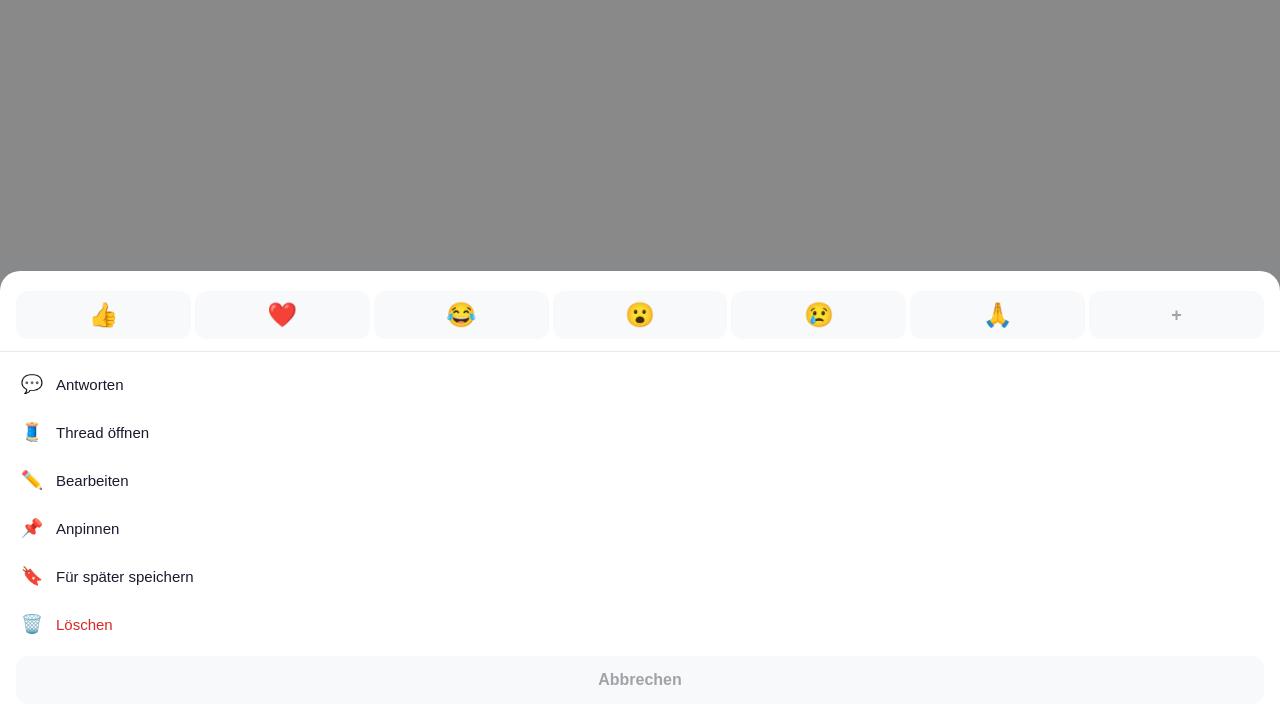
Test: MobileMessageMenu — delete confirmation › hides confirm when Abbrechen is clicked
Click the button "🗑️ Löschen" at (84, 624), box x1=8 y1=600 x2=1272 y2=648
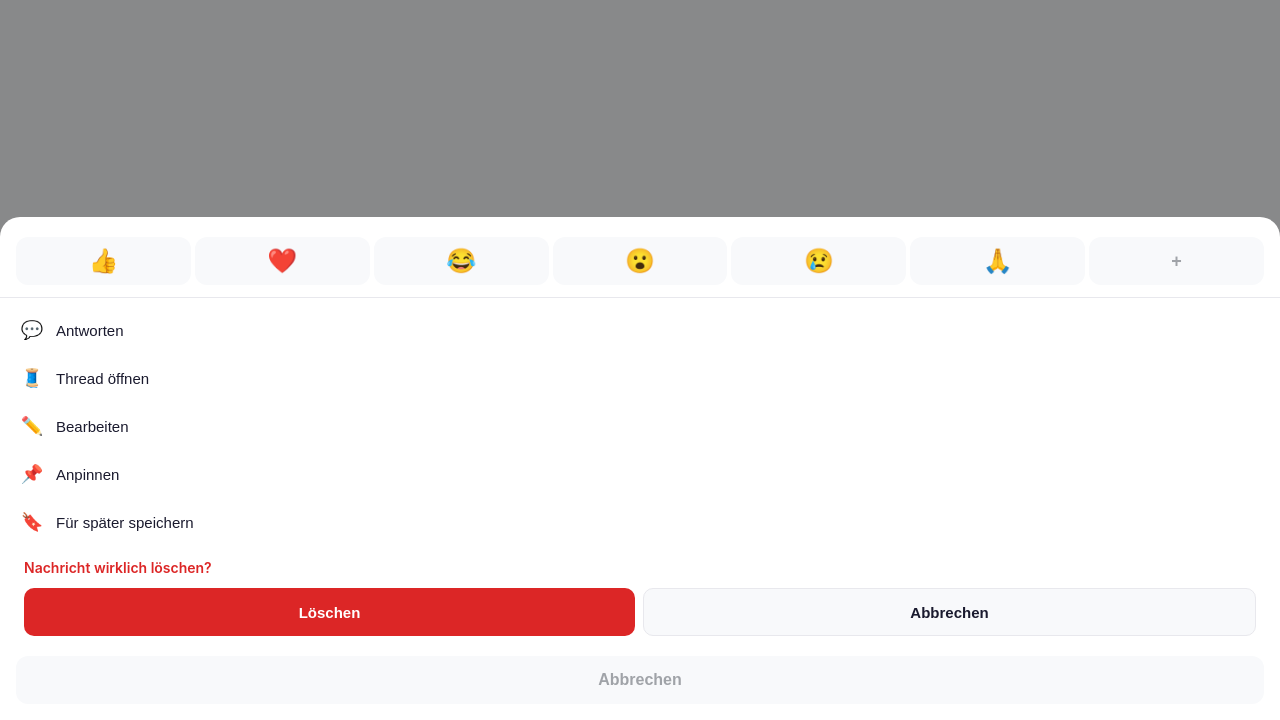
Click the 1st button "Abbrechen" at (950, 612), box x1=643 y1=588 x2=1256 y2=636
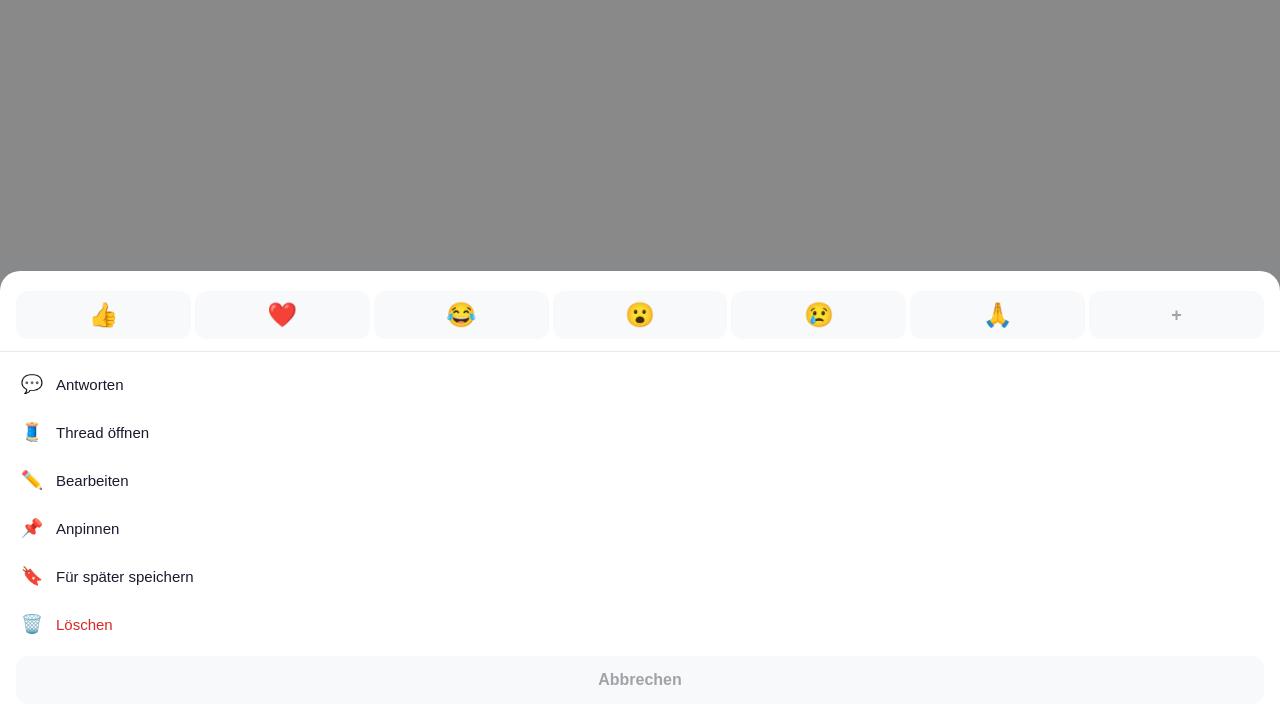
Check: the text "wirklich löschen" is gone
